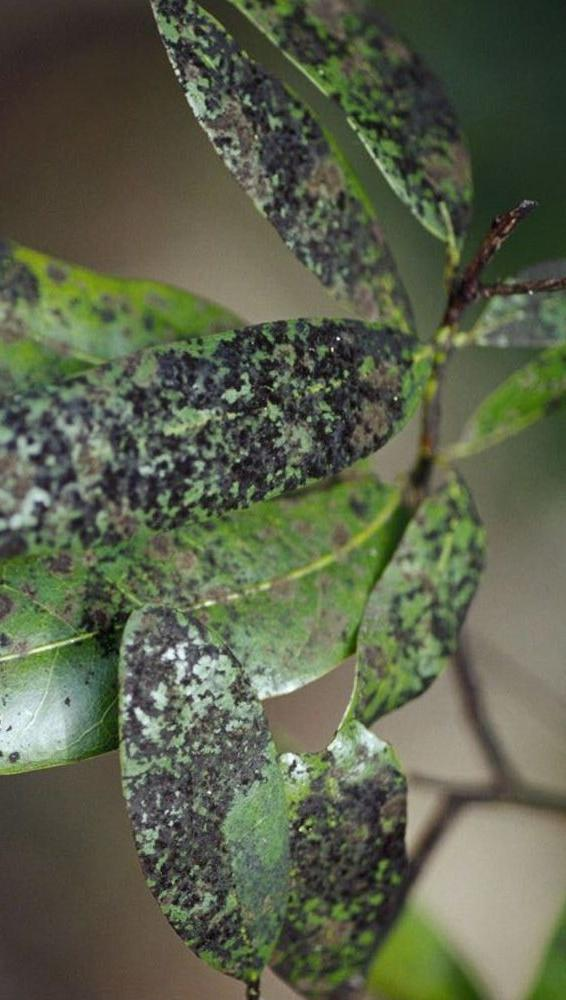soot dew: (0, 322, 416, 559), (156, 0, 413, 325), (240, 0, 468, 248), (132, 603, 271, 984), (280, 765, 413, 997)
